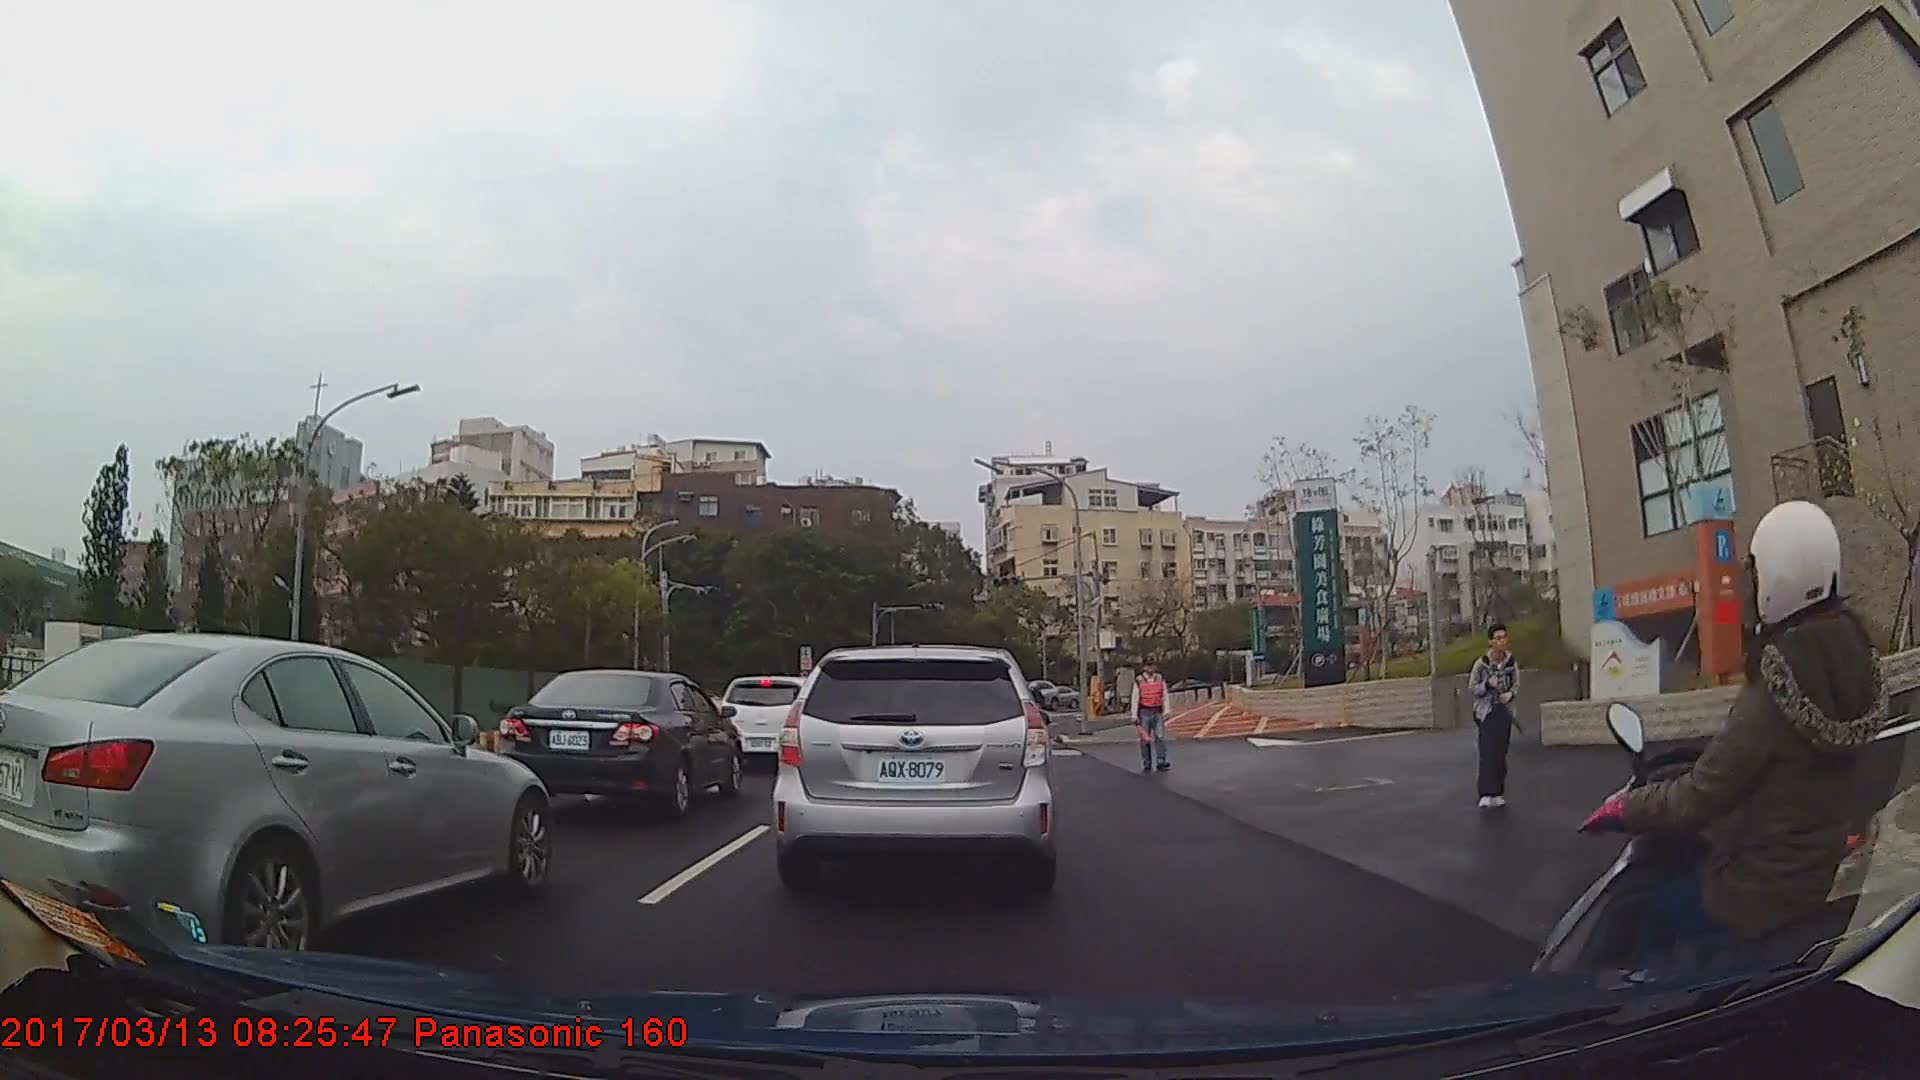pedestrian: (1468, 628, 1523, 812), (1135, 660, 1176, 777)
rider: (1520, 502, 1920, 1075)
vehicle: (0, 633, 549, 970), (771, 648, 1057, 901), (499, 670, 745, 819), (719, 676, 824, 767), (1041, 686, 1081, 715)
